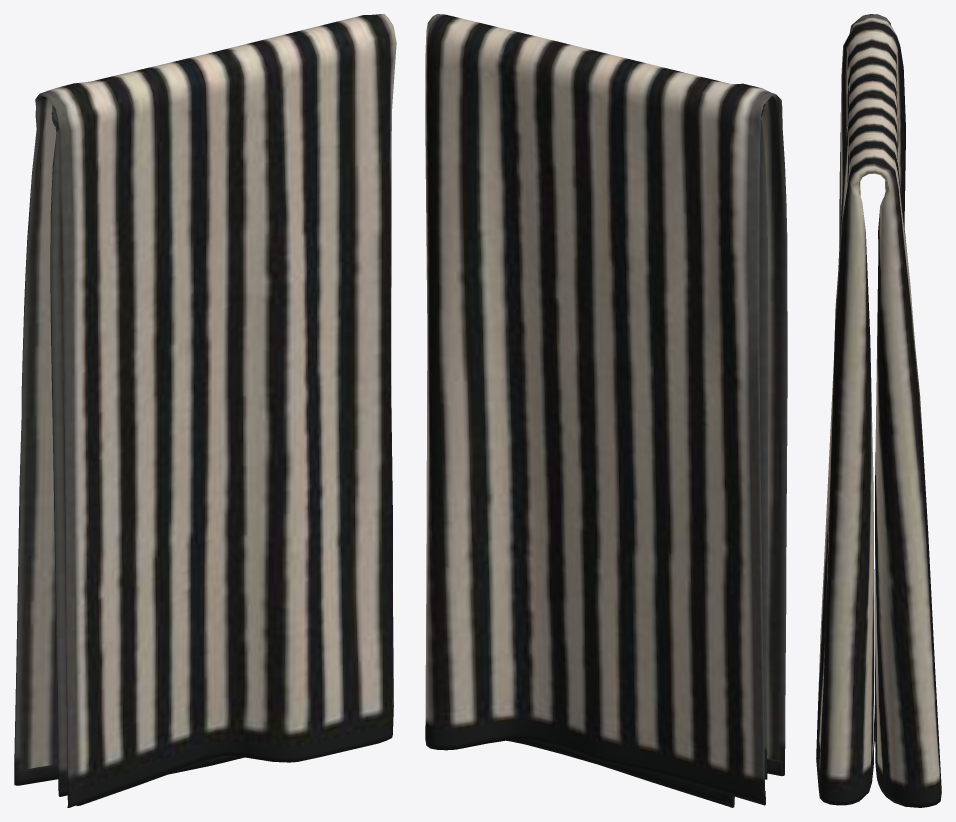
The model's file is slanhostmal_recznik_kapielowy_90625692.glb.
3 renders of one model, left to right at view 1: azimuth 30°, elevation 25°; view 2: azimuth 150°, elevation 25°; view 3: azimuth 270°, elevation 25°, orthographic. The views are drawn at different scales.
Visible parts, largest first — view 1: slanhostmal_recznik_kapielowy_90625692; view 2: slanhostmal_recznik_kapielowy_90625692; view 3: slanhostmal_recznik_kapielowy_90625692.
Boxes of the visible parts, bbox=[...] form: slanhostmal_recznik_kapielowy_90625692: bbox=[14, 14, 396, 807]; slanhostmal_recznik_kapielowy_90625692: bbox=[425, 14, 787, 807]; slanhostmal_recznik_kapielowy_90625692: bbox=[816, 14, 941, 807].
Bounding box in the file's own units: 0.3669 × 0.7124 × 0.1228.
1 material, 1 textured.
